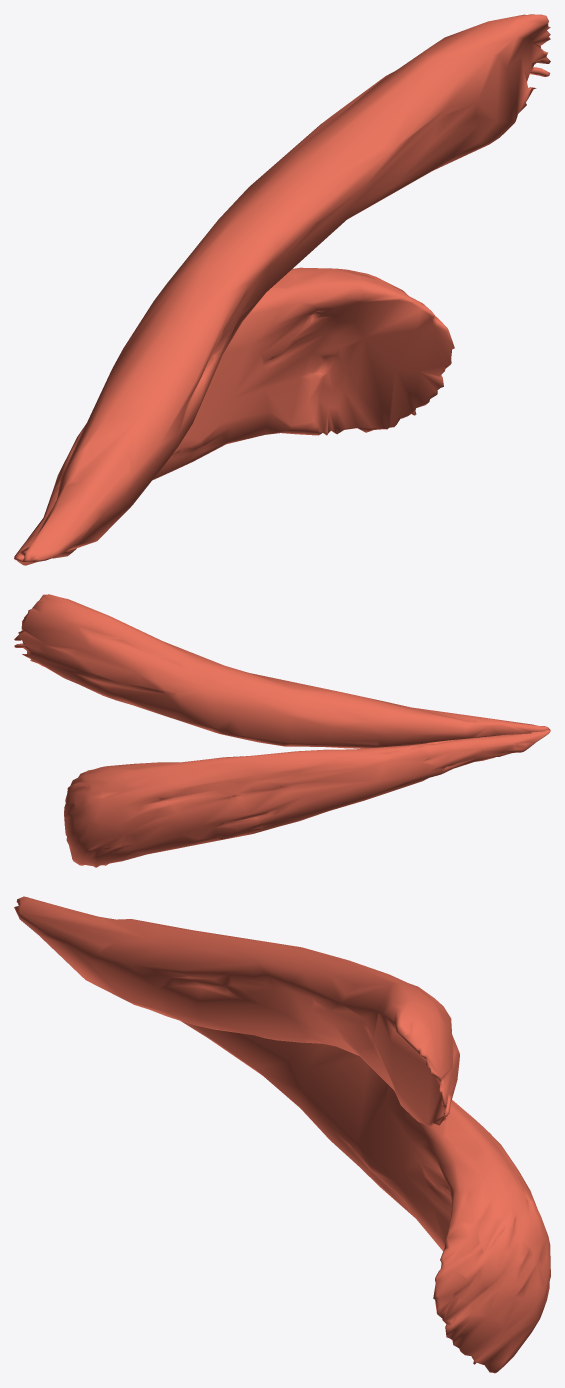
Rendered from superior-and-inferior-gemelli.glb.
3 views of the same model, one above another, from view 1: azimuth 30°, elevation 25°; view 2: azimuth 150°, elevation 25°; view 3: azimuth 270°, elevation 25° (orthographic). The views are drawn at different scales.
Visible parts, largest first — view 1: Superior gemellus muscle.r, Inferior gemellus muscle.r; view 2: Inferior gemellus muscle.r, Superior gemellus muscle.r; view 3: Inferior gemellus muscle.r, Superior gemellus muscle.r.
Part boxes in pixels (box(x1,y1,x2,y2)): Superior gemellus muscle.r: box(19, 14, 550, 561); Inferior gemellus muscle.r: box(14, 267, 454, 565); Inferior gemellus muscle.r: box(64, 729, 550, 867); Superior gemellus muscle.r: box(14, 594, 550, 748); Inferior gemellus muscle.r: box(27, 897, 550, 1373); Superior gemellus muscle.r: box(14, 896, 459, 1126).
Bounding box in the file's own units: 0.0841 × 0.0456 × 0.0551.
